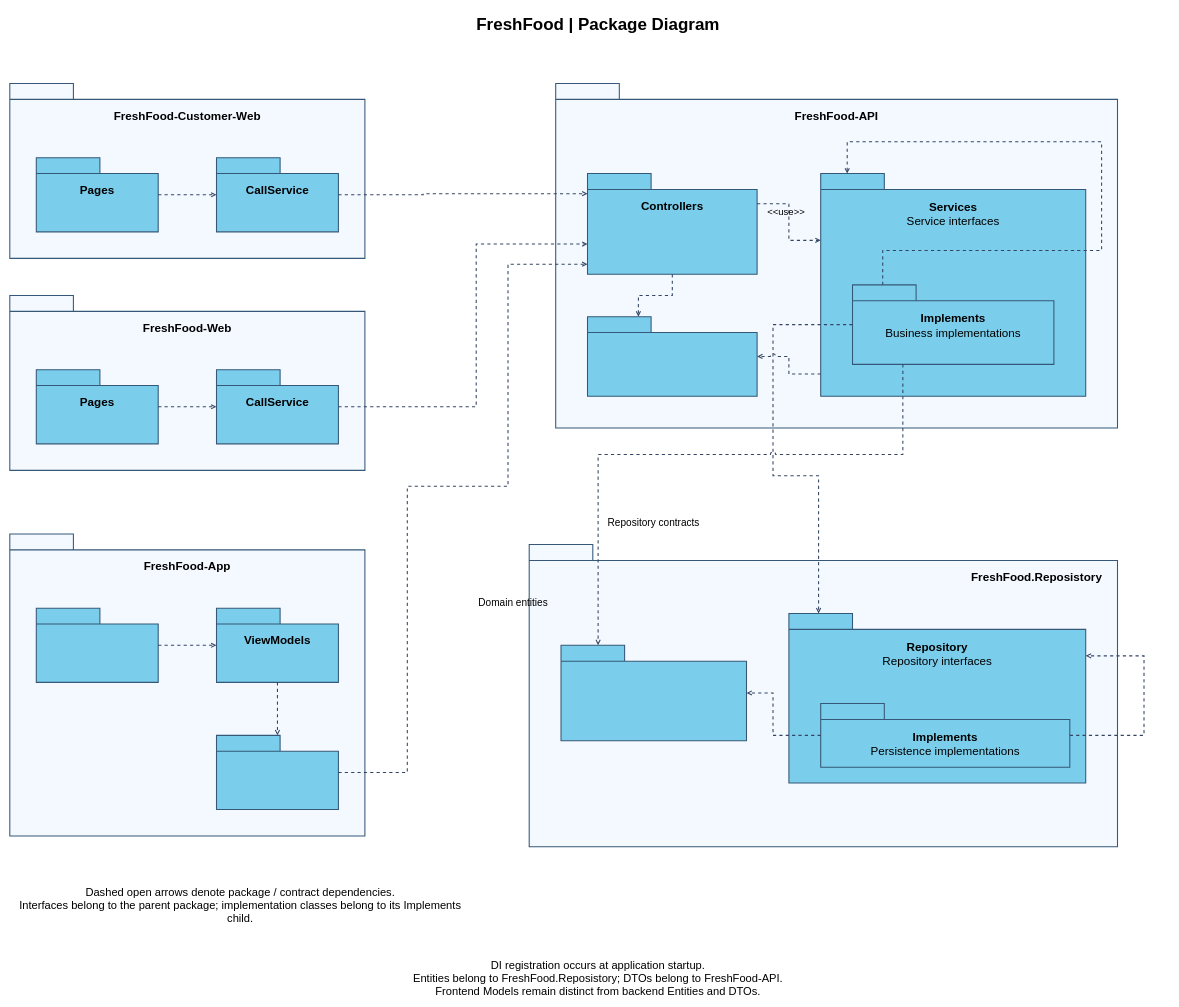
Some shapes in this 1179 by 1007 pixel diagram are drawn without their labels. The centre of each missing label's shape, as x and y in pixels:
"DTOs Request / response contracts" belongs at [672,356].
"Entities Domain entities" belongs at [653,692].
"Models" belongs at [277,772].
"Views" belongs at [97,645].
